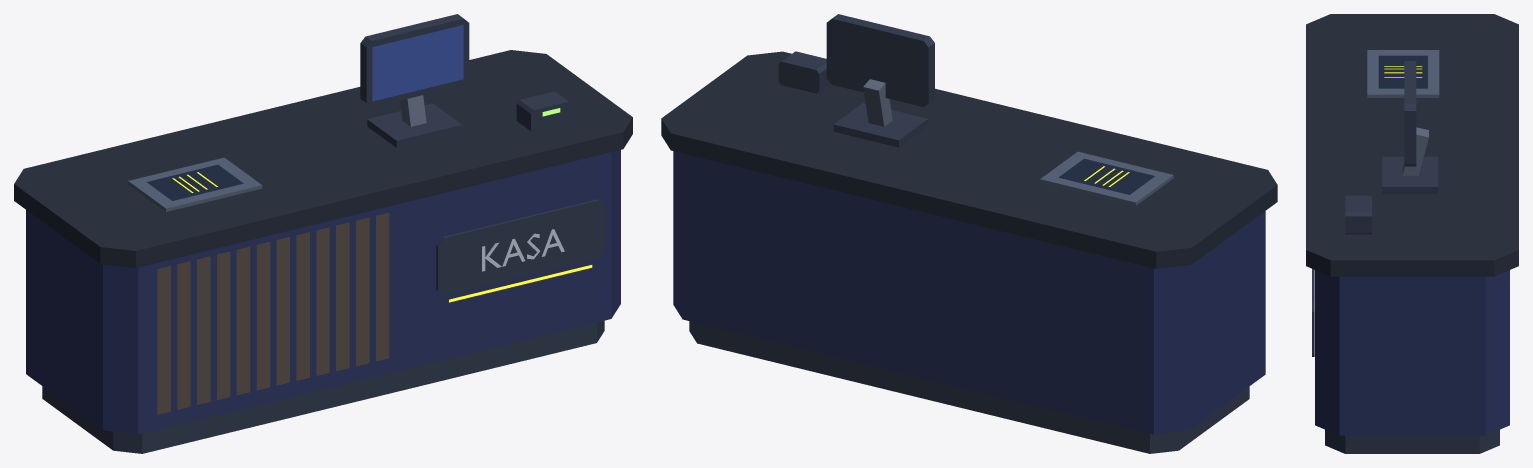
The model's file is mall_checkout_counter.glb.
3 views of the same model, side by side, from view 1: azimuth 30°, elevation 25°; view 2: azimuth 150°, elevation 25°; view 3: azimuth 270°, elevation 25° (orthographic). The views are drawn at different scales.
Visible parts, largest first — view 1: joinery, stone_top, pos_bezel, oak_flute, register, scanner, scanner_glass, lettering, optical_reader, pos_arm; view 2: joinery, stone_top, pos_bezel, scanner, scanner_glass, pos_arm; view 3: stone_top, joinery, pos_bezel, scanner, scanner_glass, pos_arm.
Boxes of the visible parts, box(x1,y1,x2,y2) form: joinery: box(26, 150, 620, 434); stone_top: box(14, 50, 632, 267); pos_bezel: box(42, 14, 605, 453); oak_flute: box(157, 212, 389, 414); register: box(372, 25, 463, 101); scanner: box(128, 157, 262, 211); scanner_glass: box(147, 164, 243, 200); lettering: box(482, 229, 564, 271); optical_reader: box(172, 172, 592, 302); pos_arm: box(400, 95, 426, 126); joinery: box(673, 151, 1265, 434); stone_top: box(661, 51, 1277, 268); pos_bezel: box(689, 14, 1249, 453); scanner: box(1040, 151, 1173, 205); scanner_glass: box(1058, 158, 1154, 194); pos_arm: box(863, 79, 892, 126); stone_top: box(1306, 14, 1518, 276); joinery: box(1315, 270, 1509, 435); pos_bezel: box(1312, 61, 1499, 453); scanner: box(1367, 50, 1439, 97); scanner_glass: box(1378, 55, 1427, 88); pos_arm: box(1402, 127, 1428, 175).
Size of the model in its own units: 2.6 by 1.48 by 0.95.
